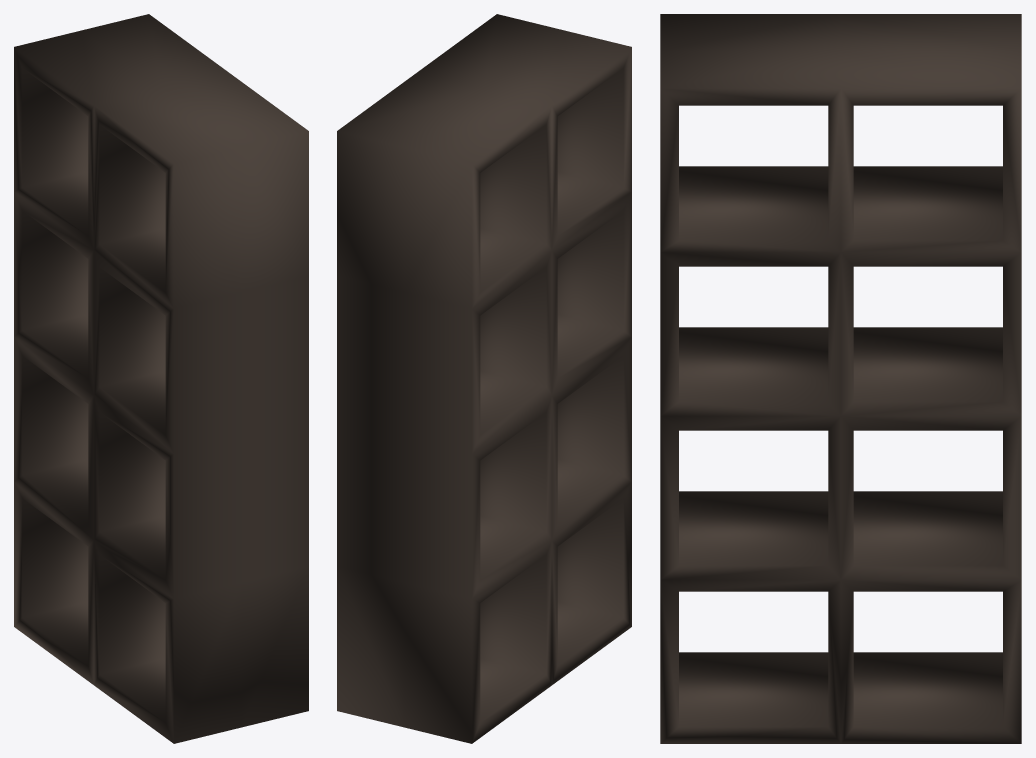
Rendered from SM_BookShelf.fbx.
The picture shows the model from 3 angles, left to right: view 1: azimuth 30°, elevation 25°; view 2: azimuth 150°, elevation 25°; view 3: azimuth 270°, elevation 25°; orthographic projection. The views are drawn at different scales.
Parts seen in each view (by area): view 1: BookShelf; view 2: BookShelf; view 3: BookShelf.
Part boxes in pixels (left/top/right/bottom): BookShelf: left=14, top=14, right=308, bottom=743; BookShelf: left=337, top=14, right=631, bottom=743; BookShelf: left=660, top=14, right=1021, bottom=743.
Bounding box in the file's own units: 58.45 × 240 × 120.
